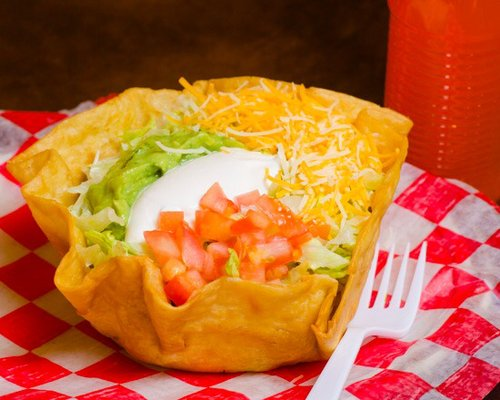soup: (4, 76, 450, 383)
